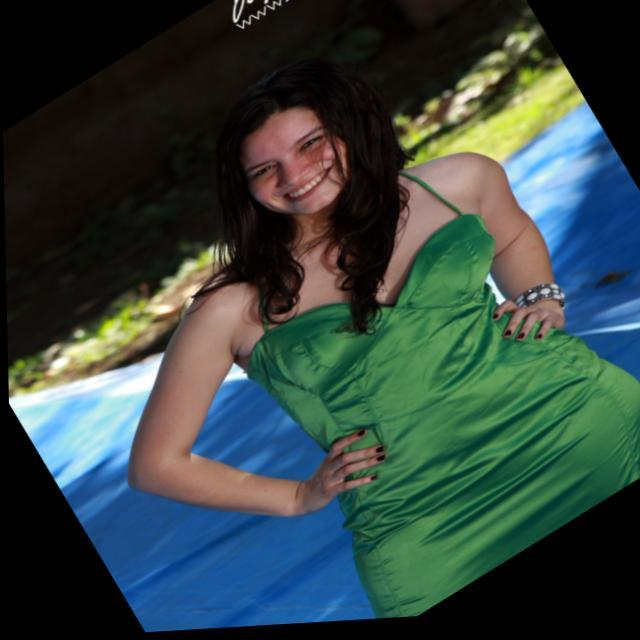Nonhelmet: (214, 68, 368, 236)
